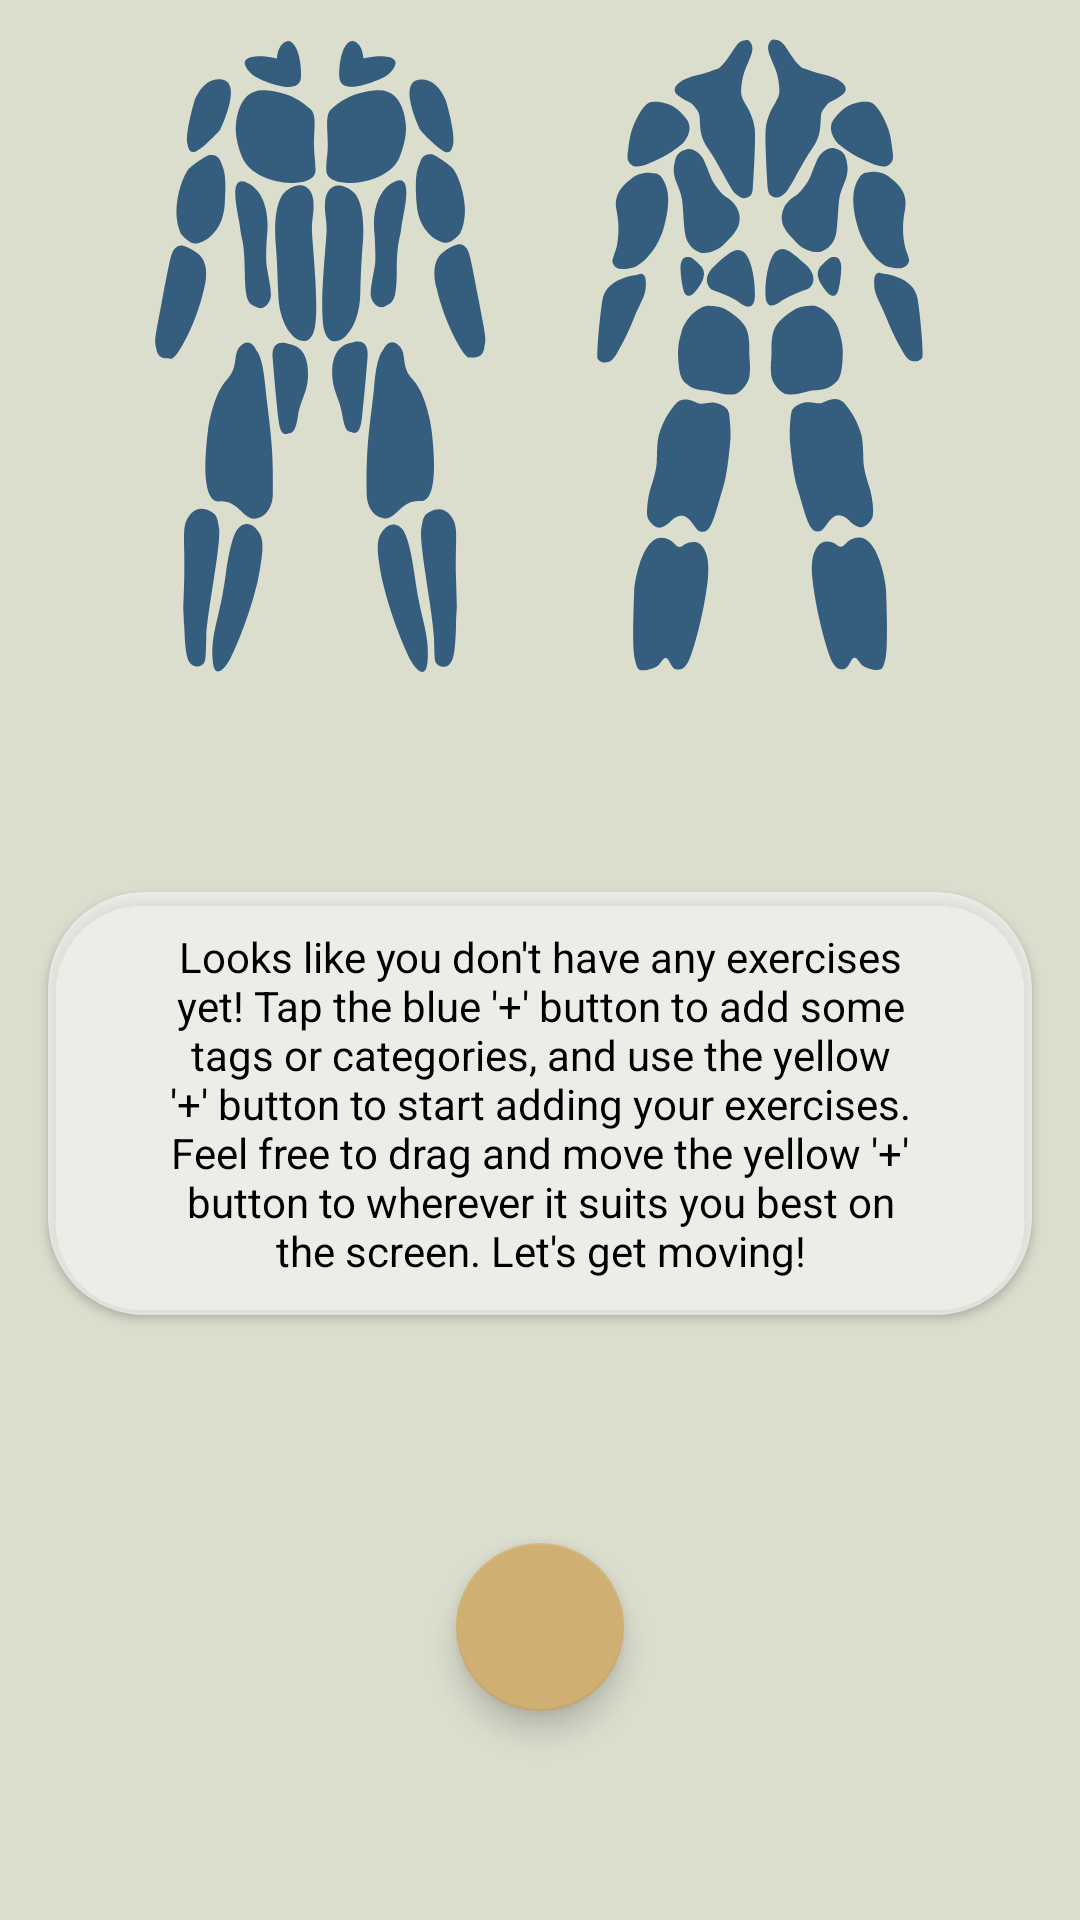

Locate icon controls on the screen. Image size 1080 × 1920, boxes as [x1=x1, y1=y1, x2=x2, y2=y2].
muscle front calves recovered: [x1=183, y1=508, x2=457, y2=672]
